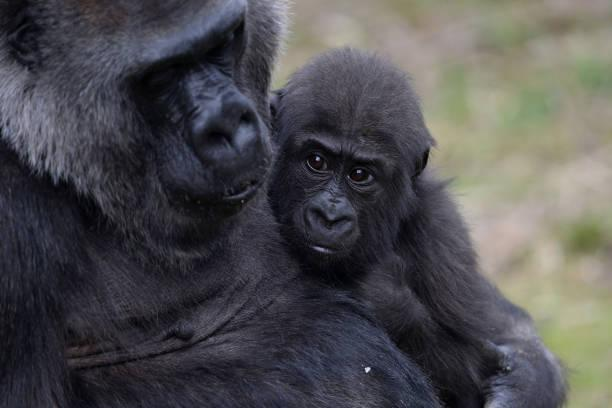gorille_Autres: (6, 0, 527, 408)
